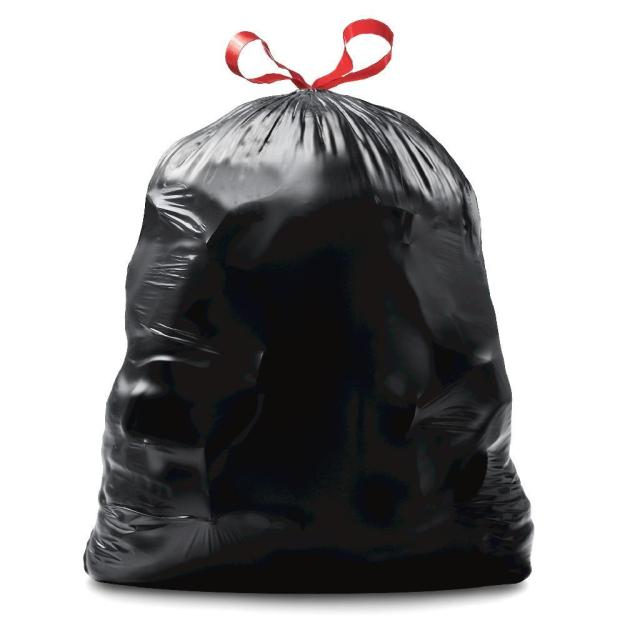inorganic: (84, 22, 538, 594)
